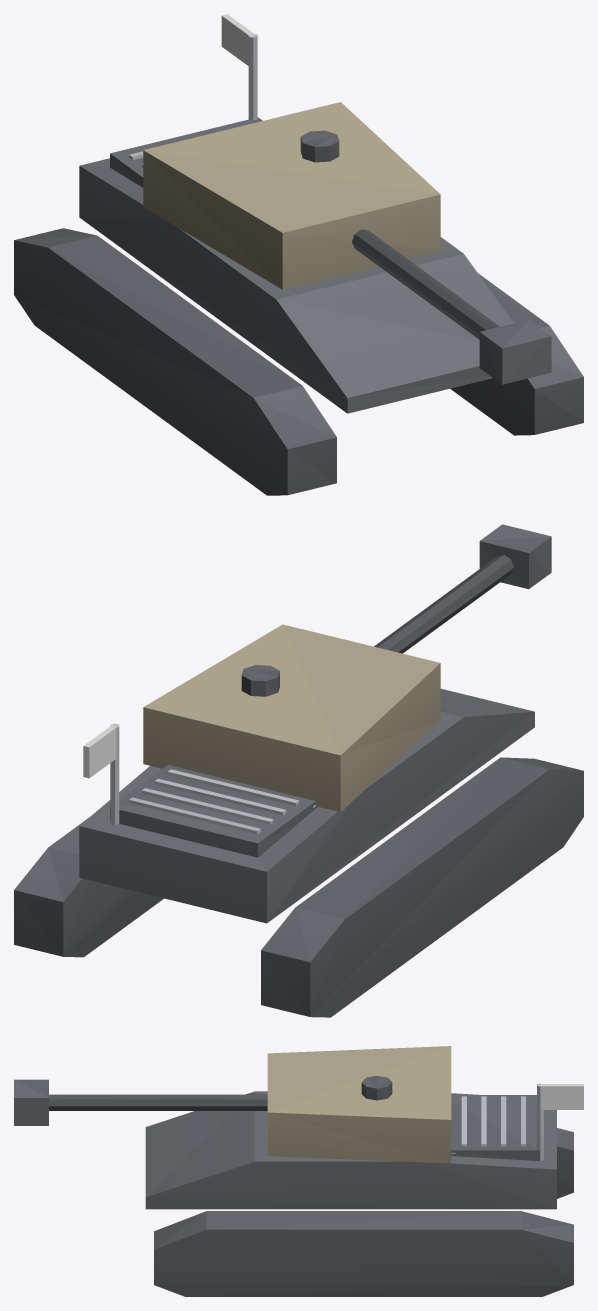
Rendered from Panzer.glb.
3 views of the same model, one above another, from view 1: azimuth 30°, elevation 25°; view 2: azimuth 150°, elevation 25°; view 3: azimuth 270°, elevation 25° (orthographic). The views are drawn at different scales.
Visible parts, largest first — view 1: Body, Part1, Part2; view 2: Body, Part1, Part2; view 3: Body, Part1, Part2.
Boxes of the visible parts, x1,y1,x2,y2 form: Body: [14, 14, 583, 495]; Part1: [143, 102, 440, 289]; Part2: [352, 229, 499, 339]; Body: [14, 524, 583, 1017]; Part1: [143, 624, 440, 812]; Part2: [374, 555, 513, 653]; Body: [14, 1079, 583, 1296]; Part1: [267, 1046, 451, 1163]; Part2: [49, 1094, 267, 1110].
Bounding box in the file's own units: 0.6 × 0.46 × 1.3.
